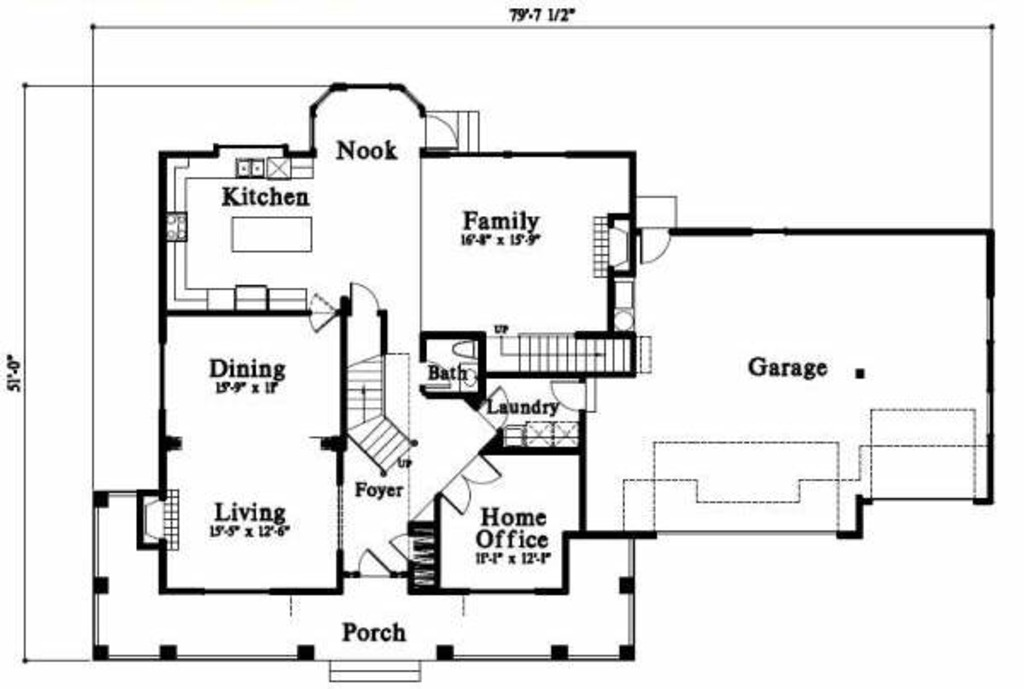door: (429, 451, 506, 516), (547, 378, 601, 417), (351, 547, 402, 584), (419, 111, 462, 151), (479, 385, 513, 431), (641, 226, 676, 268)
large_sink: (453, 335, 480, 363)
small_sink: (458, 363, 481, 398)
stairs: (338, 347, 418, 477), (487, 334, 655, 377)
twin_sink: (234, 155, 273, 184)
